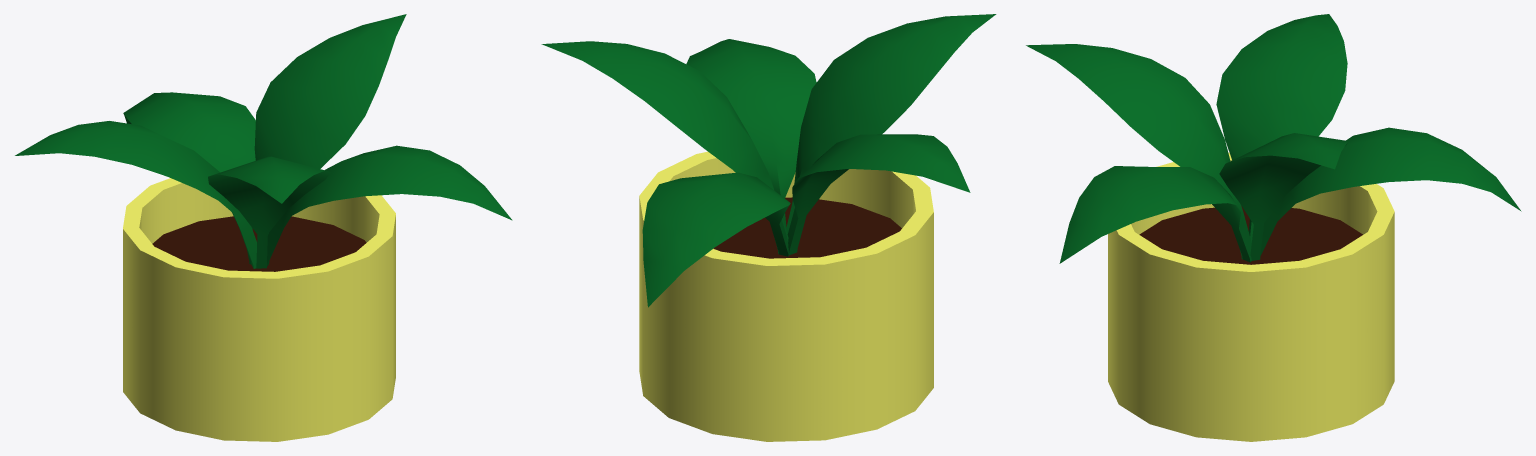
The model's file is Plant_01.fbx.
3 renders of one model, left to right at view 1: azimuth 30°, elevation 25°; view 2: azimuth 150°, elevation 25°; view 3: azimuth 270°, elevation 25°, orthographic. The views are drawn at different scales.
Visible parts, largest first — view 1: Plant01; view 2: Plant01; view 3: Plant01.
Part boxes in pixels (x1,y1,x2,y2): Plant01: (15, 14, 512, 441); Plant01: (541, 14, 996, 441); Plant01: (1026, 14, 1521, 441).
Size of the model in its own units: 32.77 by 23.66 by 34.25.
